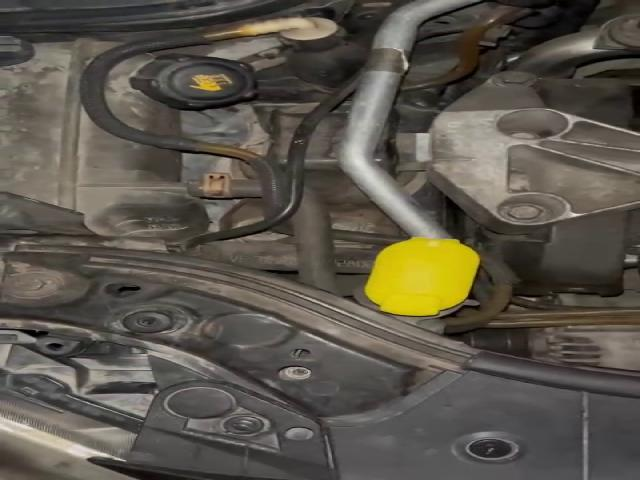antifreeze_tank: (0, 39, 208, 241), (106, 53, 254, 141)
